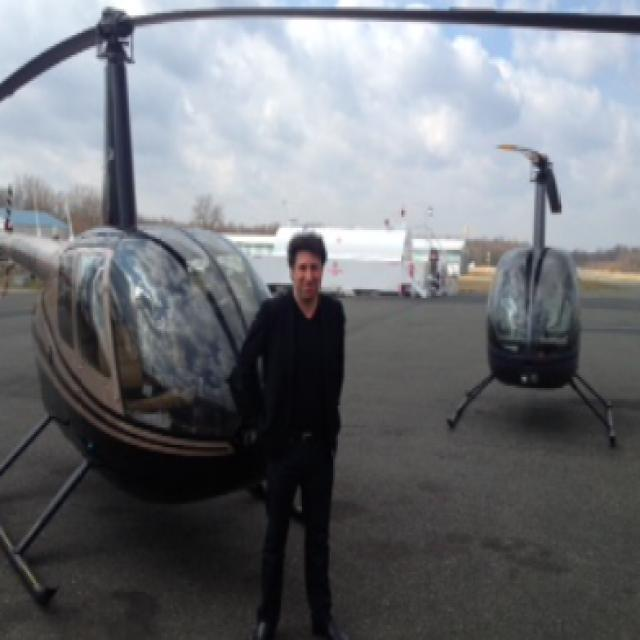helicopter: (1, 1, 406, 610), (446, 132, 640, 450)
